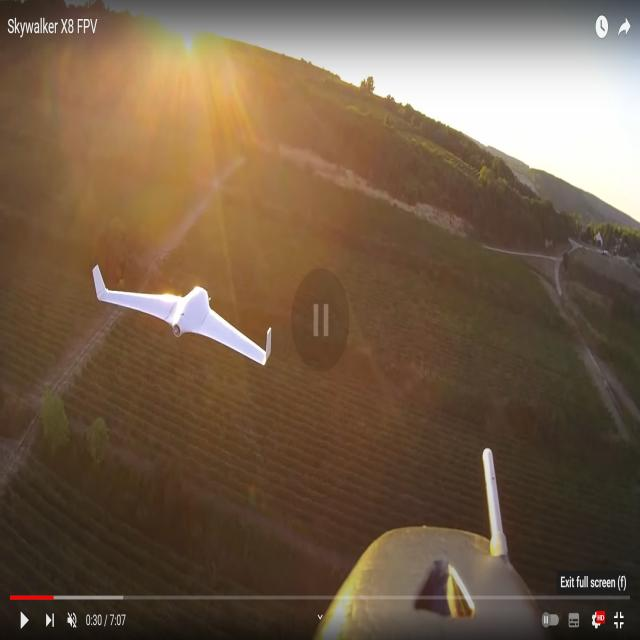iha: (92, 300, 273, 336)
